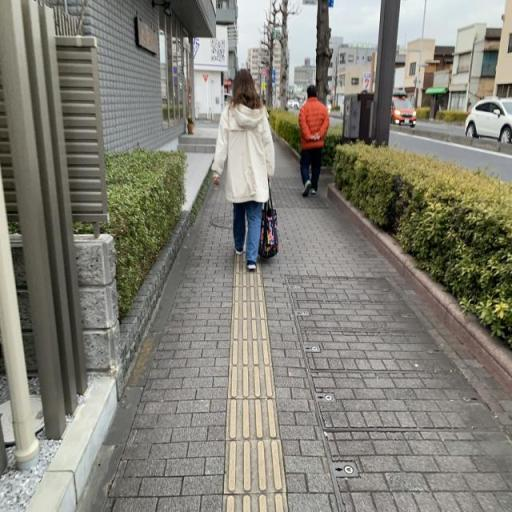line: (224, 438, 285, 494), (226, 399, 279, 440), (228, 365, 276, 399), (230, 339, 272, 367), (231, 319, 270, 340), (232, 301, 267, 320), (233, 286, 265, 302)
